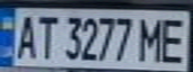2: (78, 12, 100, 62)
3: (60, 12, 84, 61)
7: (115, 14, 139, 62), (97, 12, 118, 62)
A: (9, 11, 39, 61)
E: (157, 14, 190, 63)
M: (136, 15, 166, 63)
T: (33, 11, 60, 61)
